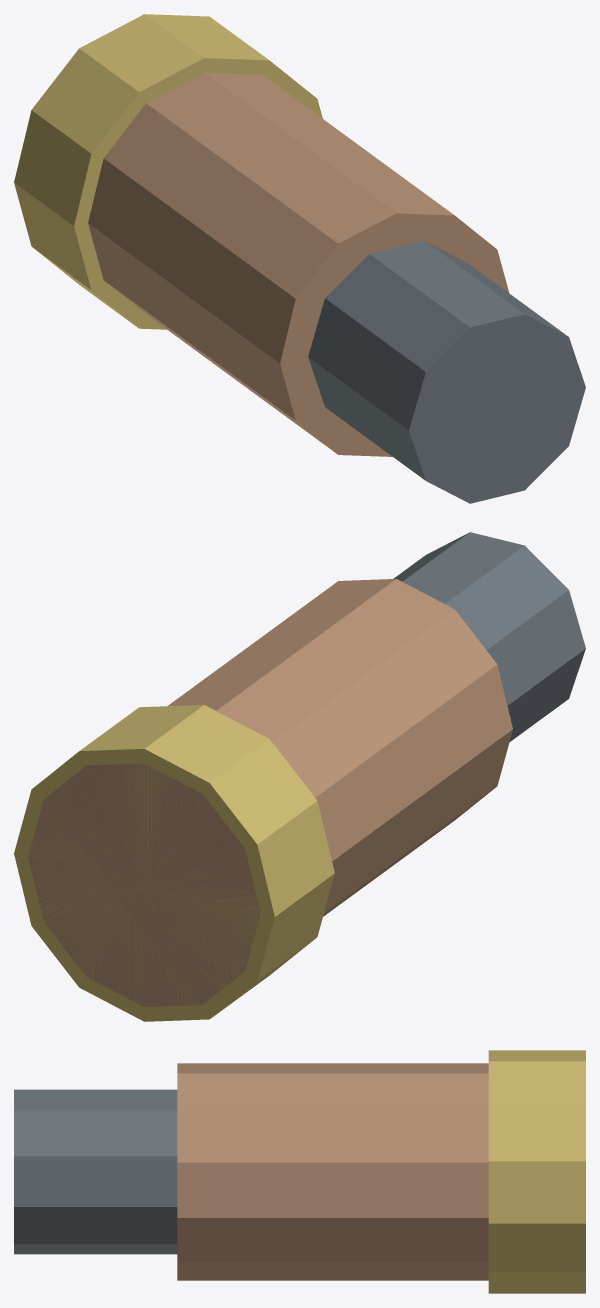
Rendered from ammo_9mm.glb.
The picture shows the model from 3 angles, top to bottom: view 1: azimuth 30°, elevation 25°; view 2: azimuth 150°, elevation 25°; view 3: azimuth 270°, elevation 25°; orthographic projection. The views are drawn at different scales.
Parts seen in each view (by area): view 1: 00_brass_case, 02_projectile, 01_rim; view 2: 00_brass_case, 01_rim, 02_projectile; view 3: 00_brass_case, 02_projectile, 01_rim.
Boxes of the visible parts, left/top/right/bottom form: 00_brass_case: left=88, top=72, right=509, bottom=456; 02_projectile: left=308, top=240, right=585, bottom=503; 01_rim: left=14, top=14, right=322, bottom=329; 00_brass_case: left=28, top=579, right=512, bottom=1007; 01_rim: left=14, top=705, right=334, bottom=1021; 02_projectile: left=393, top=532, right=585, bottom=741; 00_brass_case: left=177, top=1063, right=488, bottom=1280; 02_projectile: left=14, top=1089, right=177, bottom=1254; 01_rim: left=488, top=1050, right=585, bottom=1293.
Size of the model in its own units: 0.0627 by 0.0627 by 0.147.
